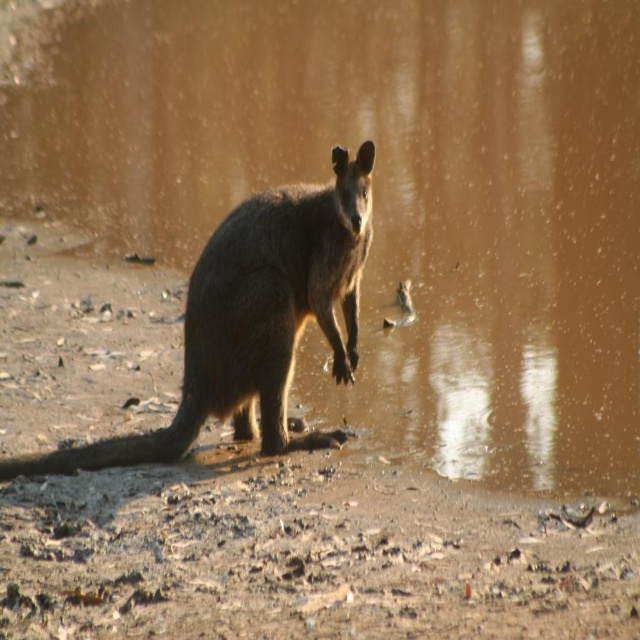Kangaroo: (0, 143, 376, 478)
